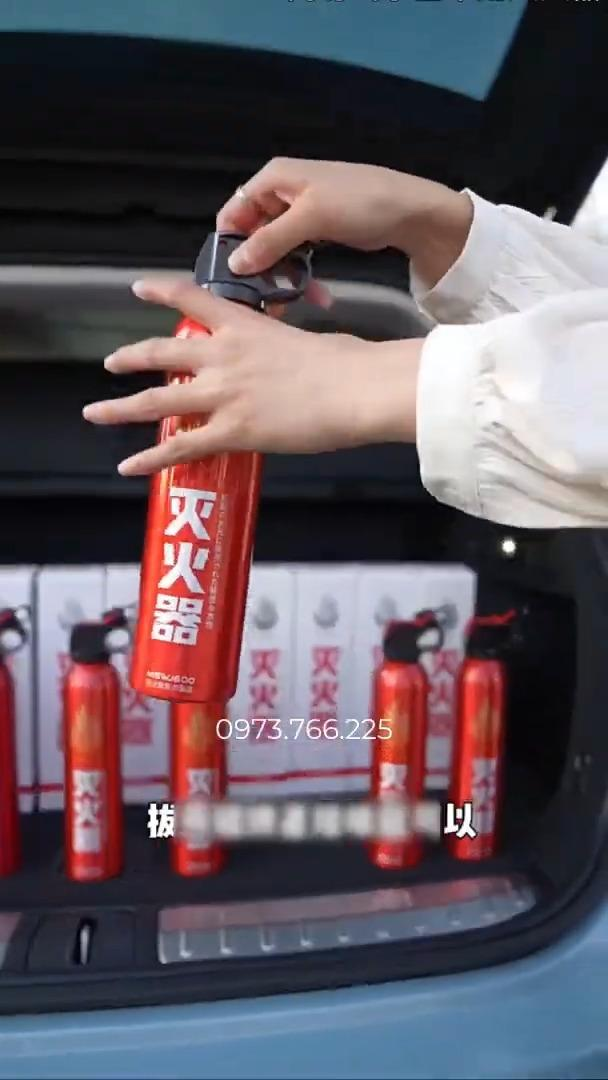FireExtinguisher: (127, 218, 328, 714), (441, 590, 535, 876), (58, 583, 131, 895), (366, 600, 448, 876), (150, 663, 236, 887), (0, 600, 33, 875)
